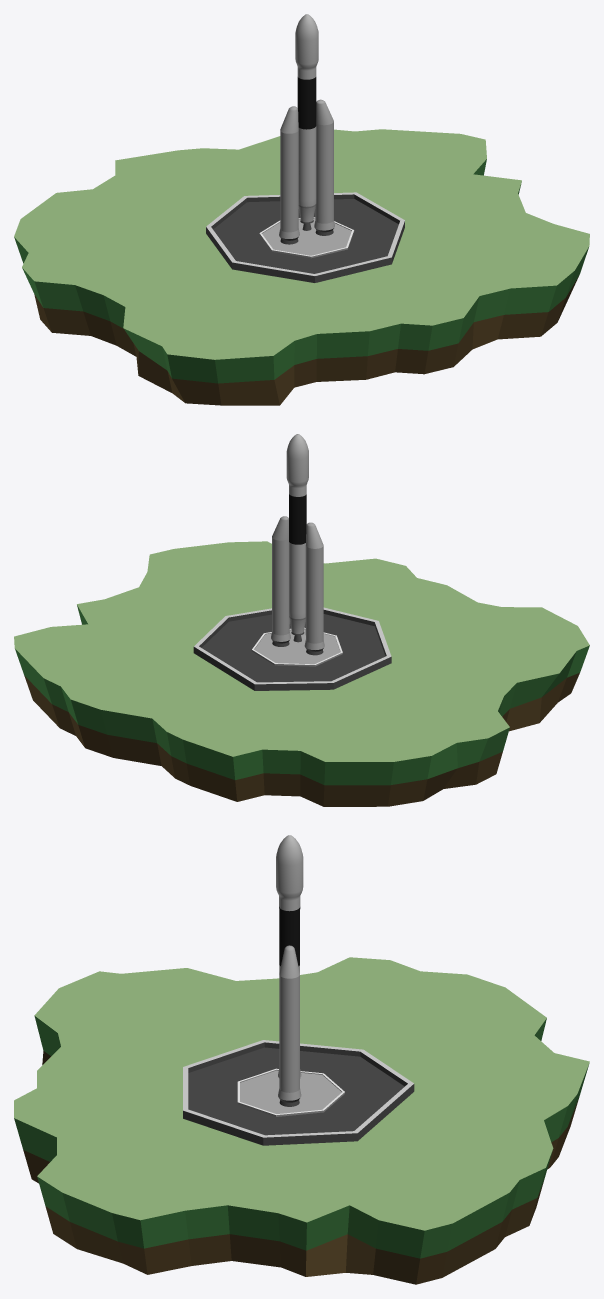
File: GSLV III.gltf
3 views of the same model, one above another, from view 1: azimuth 30°, elevation 25°; view 2: azimuth 150°, elevation 25°; view 3: azimuth 270°, elevation 25° (orthographic). The views are drawn at different scales.
Visible parts, largest first — view 1: Plane, Circle, Cylinder, Cylinder.001, Cylinder.007, Cylinder.005; view 2: Plane, Circle, Cylinder, Cylinder.001, Cylinder.007, Cylinder.005; view 3: Plane, Circle, Cylinder.001, Cylinder.005, Cylinder.
Boxes of the visible parts, box(x1,y1,x2,y2) form: Plane: box(14, 129, 589, 405); Circle: box(206, 192, 404, 282); Cylinder: box(295, 14, 318, 230); Cylinder.001: box(259, 217, 354, 258); Cylinder.007: box(279, 131, 299, 244); Cylinder.005: box(314, 122, 334, 235); Plane: box(14, 541, 589, 806); Circle: box(193, 607, 391, 690); Cylinder: box(286, 434, 308, 642); Cylinder.001: box(251, 627, 342, 666); Cylinder.007: box(304, 545, 324, 655); Cylinder.005: box(271, 538, 290, 646); Plane: box(14, 957, 589, 1284); Circle: box(183, 1040, 414, 1145); Cylinder.001: box(237, 1068, 344, 1116); Cylinder.005: box(278, 975, 301, 1106); Cylinder: box(276, 835, 303, 972).
Size of the model in its own units: 8.06 by 4.45 by 7.18.
